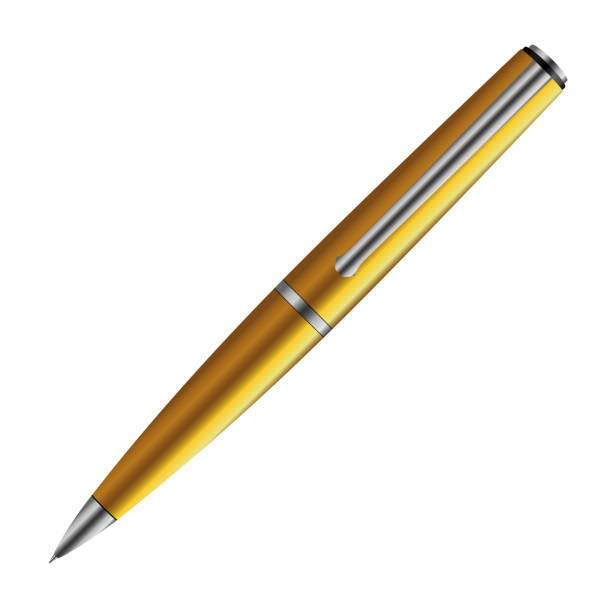pen: (36, 36, 598, 564)
